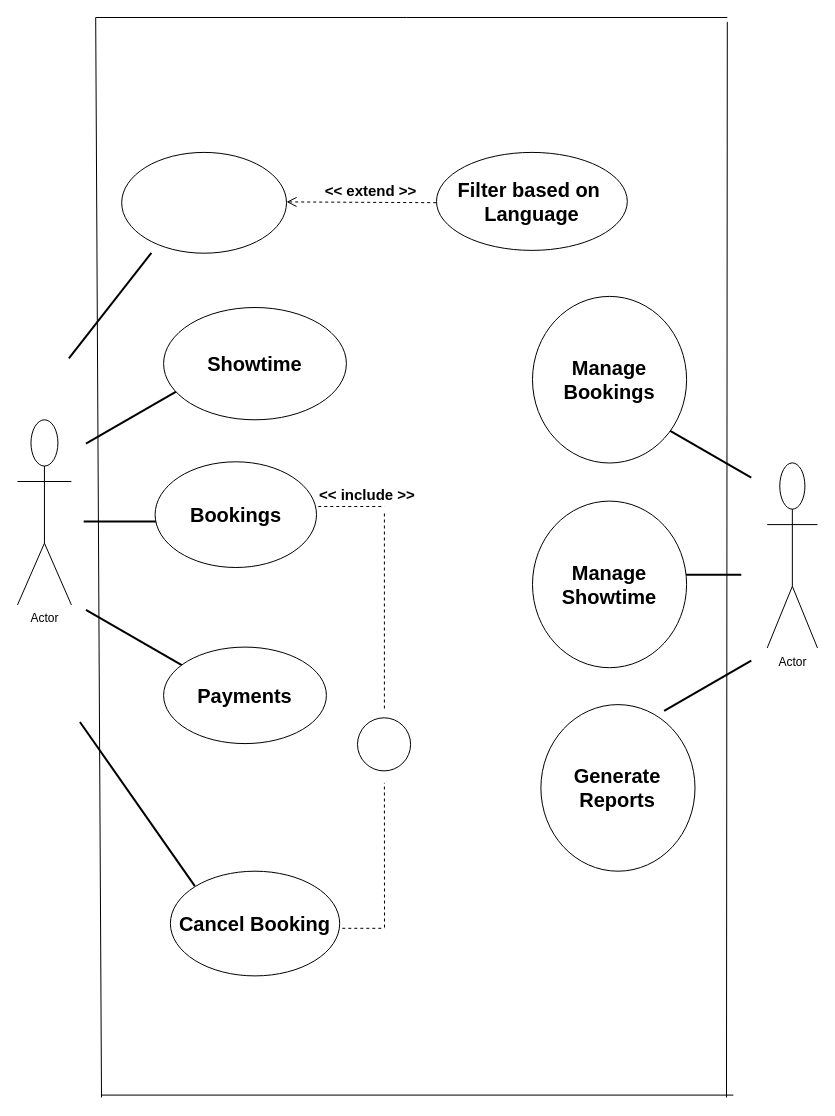
Image size: 835x1116. Some labels were removed from this diagram. The shapes that lost their labels are listed below. From the top down, each one's box as (x1, y1, x2, y2) in pixels, then its label:
(121, 151, 286, 253): Search
(356, 717, 411, 771): Login
